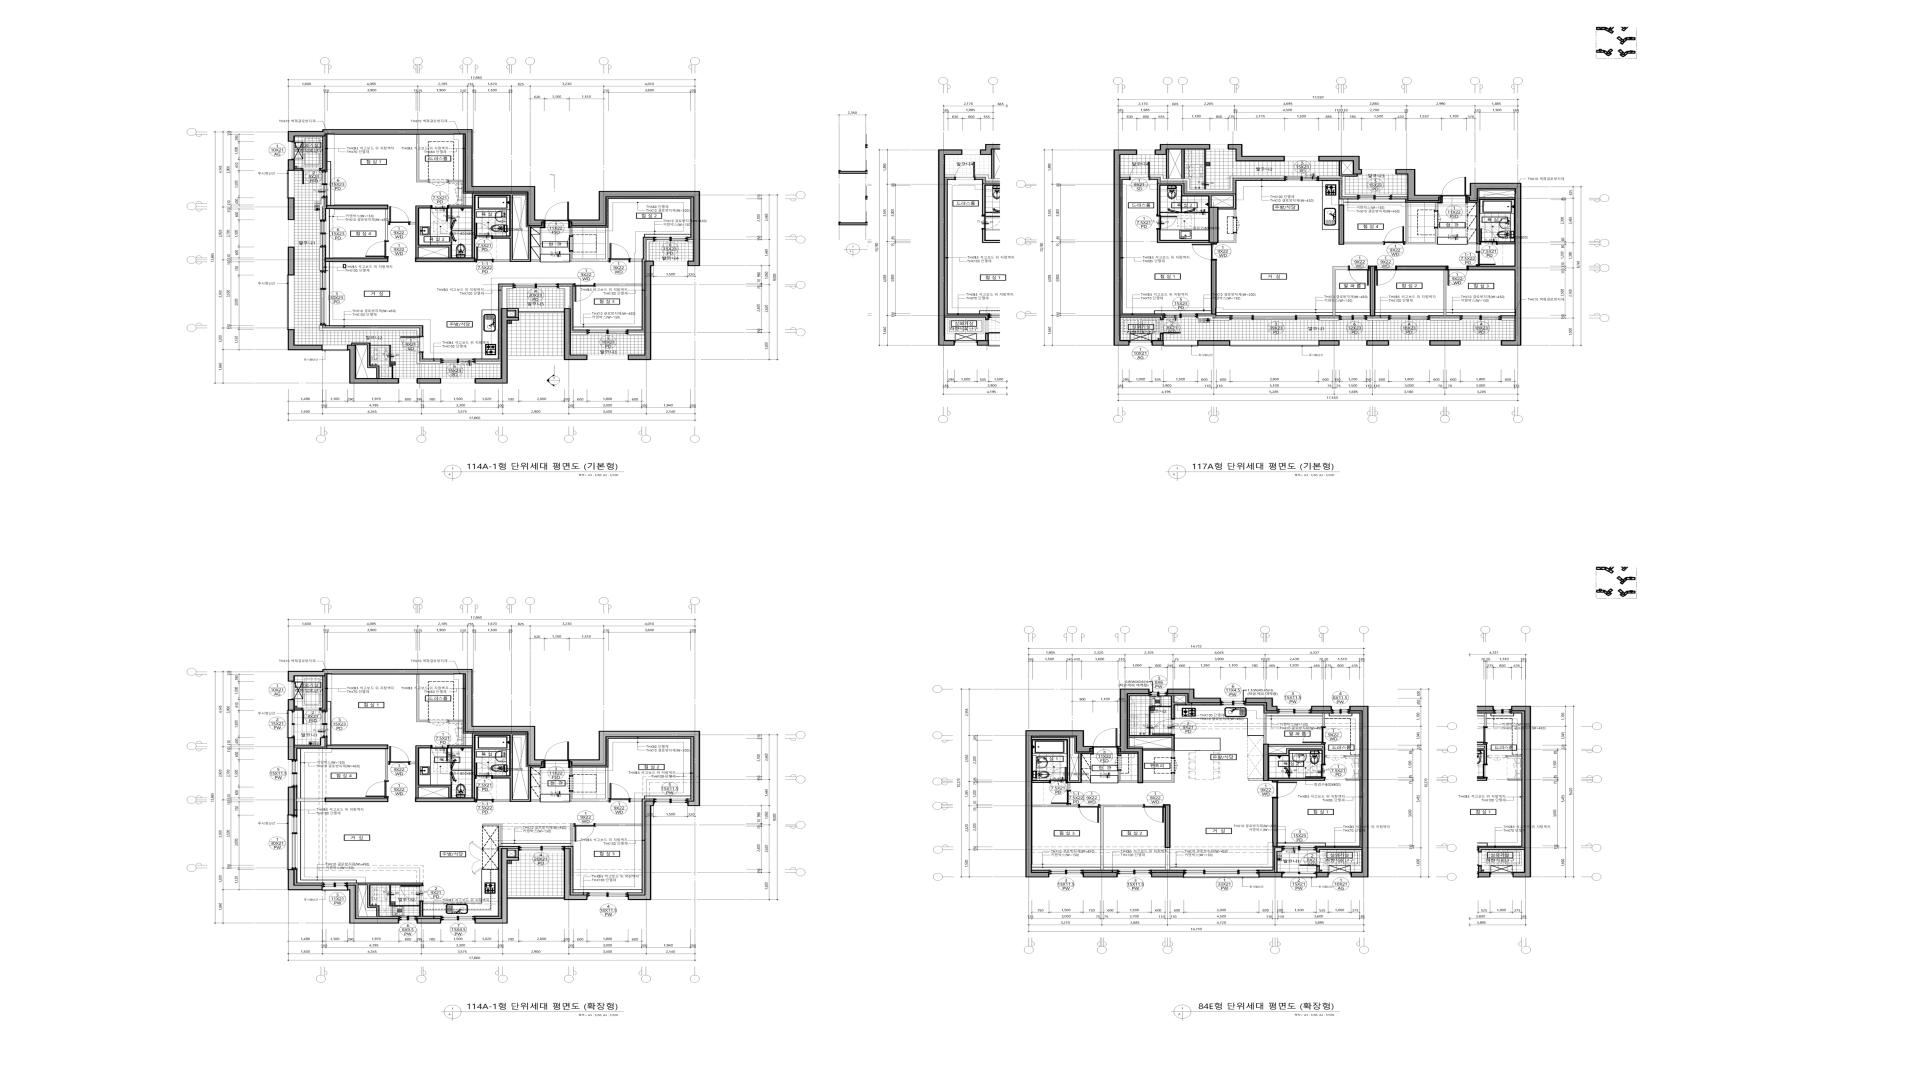door: (543, 742, 570, 769), (1441, 177, 1468, 203), (543, 203, 570, 228), (1093, 728, 1117, 754), (1447, 265, 1469, 286), (1375, 265, 1398, 286), (1192, 243, 1217, 261), (1271, 781, 1298, 798), (1349, 265, 1370, 286), (608, 783, 630, 803), (608, 243, 630, 262), (1079, 804, 1101, 823), (1383, 227, 1406, 245), (388, 207, 410, 225), (365, 781, 389, 798), (1129, 162, 1150, 181), (1143, 804, 1164, 823), (388, 746, 409, 765), (574, 823, 595, 841), (574, 284, 595, 302), (1303, 727, 1325, 744), (1151, 719, 1175, 735), (400, 886, 423, 902), (365, 241, 389, 257), (400, 336, 423, 352), (475, 762, 493, 779), (302, 167, 320, 185), (1156, 215, 1178, 229), (1299, 852, 1320, 866), (431, 745, 448, 762), (302, 708, 320, 724), (475, 787, 493, 803), (475, 247, 493, 262), (475, 223, 493, 239), (1305, 764, 1325, 778), (1051, 790, 1071, 804), (1160, 319, 1180, 334), (1050, 767, 1067, 783), (1481, 229, 1498, 245), (431, 206, 448, 222), (1476, 252, 1495, 265), (429, 179, 448, 186), (429, 720, 448, 725), (1325, 756, 1345, 761), (1171, 758, 1178, 773)
wall: (287, 669, 543, 766), (287, 129, 543, 225), (1026, 731, 1093, 877), (570, 731, 700, 806), (570, 191, 700, 266), (1466, 183, 1522, 345), (448, 194, 539, 262), (448, 733, 539, 802), (1150, 149, 1284, 191), (1113, 149, 1137, 345), (475, 848, 520, 924), (1349, 705, 1369, 877), (475, 309, 520, 384), (1118, 688, 1150, 783), (1100, 804, 1143, 870), (1156, 183, 1237, 218), (628, 800, 654, 901), (628, 261, 654, 360), (1033, 738, 1091, 783), (409, 745, 452, 798), (359, 882, 423, 916), (410, 206, 452, 257), (347, 885, 400, 924), (347, 345, 400, 384), (1395, 169, 1441, 202), (1319, 161, 1358, 196), (570, 767, 608, 802), (570, 228, 608, 262), (1406, 203, 1437, 244), (564, 848, 588, 901), (564, 309, 587, 360), (1269, 744, 1325, 764), (319, 326, 419, 336), (1129, 736, 1175, 758), (351, 343, 380, 378), (1228, 144, 1284, 161), (1319, 156, 1362, 174), (1333, 266, 1349, 316), (1167, 688, 1221, 703), (287, 869, 322, 890), (287, 330, 322, 351), (1156, 229, 1208, 243), (1155, 144, 1211, 156), (1468, 202, 1480, 252), (417, 675, 429, 723), (417, 135, 429, 182), (1245, 698, 1278, 711), (483, 824, 501, 847), (1208, 207, 1218, 243), (1211, 261, 1217, 314), (1143, 773, 1175, 783), (326, 257, 388, 262), (1171, 696, 1185, 719), (294, 737, 324, 748), (327, 204, 388, 210), (415, 257, 475, 262), (1164, 804, 1171, 848), (501, 286, 513, 309), (1370, 266, 1375, 316), (1118, 770, 1138, 783), (1273, 798, 1278, 847), (324, 798, 388, 802), (417, 353, 440, 364), (326, 745, 388, 749), (559, 286, 570, 309), (415, 798, 475, 802), (508, 895, 563, 899), (1338, 204, 1344, 245), (1263, 744, 1269, 781), (1398, 266, 1447, 270), (287, 247, 294, 276), (1083, 872, 1118, 877), (1274, 848, 1282, 872), (1316, 848, 1362, 852), (287, 787, 294, 815), (320, 676, 326, 711), (1151, 872, 1184, 877), (1197, 340, 1230, 345), (320, 137, 326, 170), (1218, 233, 1237, 243), (1121, 315, 1163, 319), (1429, 340, 1461, 345), (1269, 778, 1325, 781), (287, 737, 294, 760), (287, 198, 294, 220), (646, 240, 653, 261), (1258, 872, 1283, 877), (417, 918, 442, 923), (417, 378, 442, 384), (1197, 316, 1230, 320), (1366, 340, 1390, 345), (595, 284, 642, 286), (1033, 804, 1079, 807), (1263, 713, 1267, 744), (1444, 270, 1447, 315), (319, 198, 324, 220), (1319, 340, 1340, 345), (1311, 705, 1332, 711), (297, 798, 324, 802), (508, 848, 518, 857), (508, 309, 518, 318), (1480, 198, 1515, 200), (319, 247, 323, 270), (1166, 848, 1170, 870), (1316, 872, 1329, 878), (385, 749, 388, 781), (385, 210, 388, 241), (1429, 318, 1460, 320), (287, 699, 294, 711), (287, 160, 294, 171), (475, 361, 501, 364), (1151, 340, 1164, 345), (595, 824, 642, 825), (571, 824, 574, 847), (419, 902, 423, 916), (1367, 318, 1389, 320), (1319, 318, 1338, 320), (1345, 243, 1383, 244), (630, 258, 642, 262), (1033, 781, 1050, 783), (571, 332, 587, 335), (1499, 241, 1515, 244), (448, 720, 463, 723), (1393, 194, 1407, 196), (1502, 318, 1515, 320), (1323, 713, 1325, 727), (1121, 174, 1129, 178), (630, 799, 642, 802), (1338, 199, 1344, 204), (1067, 783, 1071, 790), (570, 228, 572, 236), (1435, 203, 1437, 211), (570, 767, 572, 775), (1316, 866, 1320, 872), (294, 167, 302, 170), (448, 181, 463, 182), (1345, 756, 1360, 757), (1249, 779, 1263, 781), (1346, 779, 1360, 781), (295, 708, 302, 711), (1160, 334, 1163, 340), (688, 240, 694, 243), (1118, 754, 1121, 756)
window: (1184, 869, 1258, 878), (286, 815, 298, 869), (1230, 340, 1319, 347), (1230, 315, 1319, 320), (286, 276, 294, 330), (518, 845, 564, 853), (320, 270, 326, 326), (587, 893, 628, 899), (654, 798, 687, 806), (289, 760, 298, 787), (513, 284, 559, 289), (286, 711, 295, 737), (518, 309, 563, 314), (1357, 194, 1393, 200), (1460, 315, 1502, 320), (508, 356, 563, 360), (323, 882, 347, 891), (1164, 340, 1197, 347), (442, 916, 475, 923), (1278, 707, 1311, 713), (1050, 870, 1083, 877), (1118, 870, 1151, 877), (1283, 872, 1316, 878), (587, 355, 628, 360), (1389, 340, 1429, 345), (1389, 315, 1429, 320), (587, 330, 628, 335), (1461, 340, 1501, 345), (286, 171, 294, 198), (1221, 698, 1245, 705), (1282, 845, 1316, 851), (440, 359, 475, 364), (654, 261, 687, 266), (442, 378, 475, 384), (320, 711, 327, 737), (1340, 315, 1367, 320), (653, 237, 688, 241), (289, 220, 294, 247), (1340, 340, 1366, 345), (322, 171, 327, 198), (320, 220, 326, 247), (1163, 314, 1197, 318), (1284, 157, 1319, 161), (1284, 177, 1319, 181), (322, 345, 347, 351), (1362, 170, 1395, 174), (400, 916, 417, 923), (1150, 690, 1167, 696), (1332, 707, 1349, 713), (1329, 872, 1350, 877), (1130, 340, 1151, 345), (400, 378, 417, 384), (289, 682, 294, 699), (289, 142, 294, 160), (1137, 150, 1155, 154), (1211, 145, 1228, 149)
